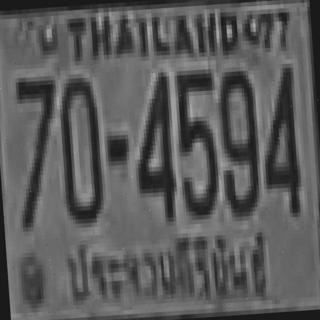N00: (54, 73, 102, 220)
N04: (128, 68, 176, 219), (256, 61, 302, 212)
N05: (172, 65, 220, 216)
N07: (12, 71, 62, 227)
N09: (213, 66, 260, 213)
P50: (55, 221, 278, 320)
